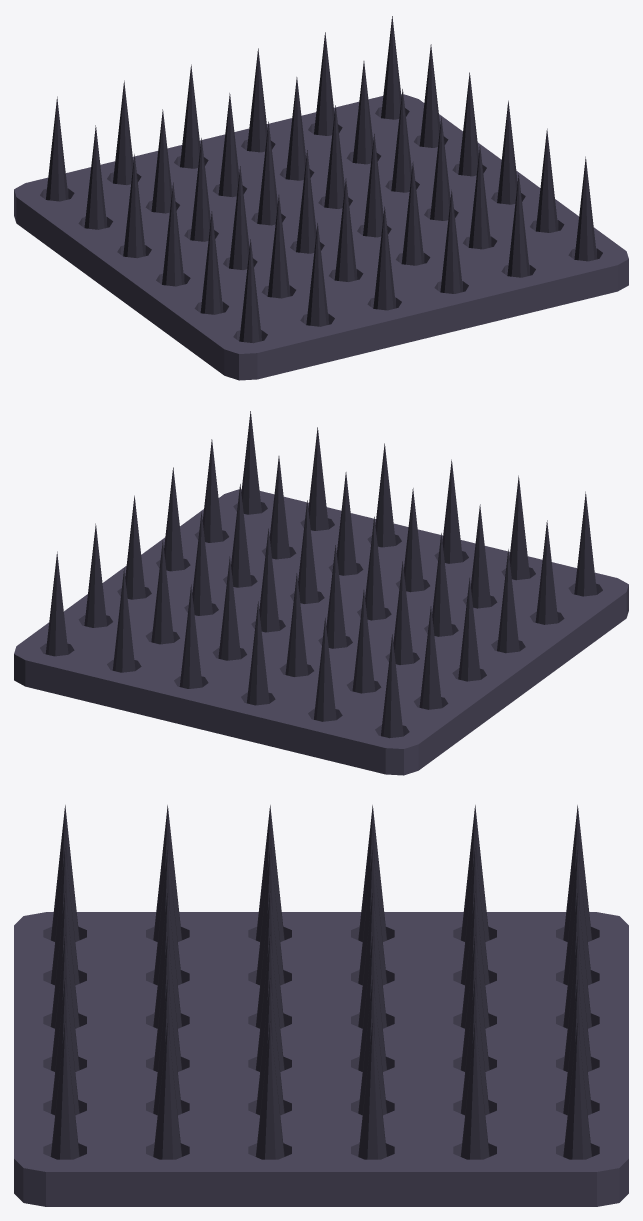
The model's file is Trap_spikes 1.fbx.
3 renders of one model, top to bottom at view 1: azimuth 30°, elevation 25°; view 2: azimuth 150°, elevation 25°; view 3: azimuth 270°, elevation 25°, orthographic. The views are drawn at different scales.
Visible parts, largest first — view 1: Trap_spikes.001, Trap_spikes; view 2: Trap_spikes.001, Trap_spikes; view 3: Trap_spikes.001, Trap_spikes.
Boxes of the visible parts, left/top/right/bottom form: Trap_spikes.001: left=14, top=94, right=628, bottom=380; Trap_spikes: left=46, top=16, right=597, bottom=343; Trap_spikes.001: left=14, top=489, right=628, bottom=775; Trap_spikes: left=45, top=411, right=596, bottom=738; Trap_spikes.001: left=14, top=912, right=628, bottom=1206; Trap_spikes: left=50, top=805, right=592, bottom=1159.
Bounding box in the file's own units: 199 × 58.79 × 199.
